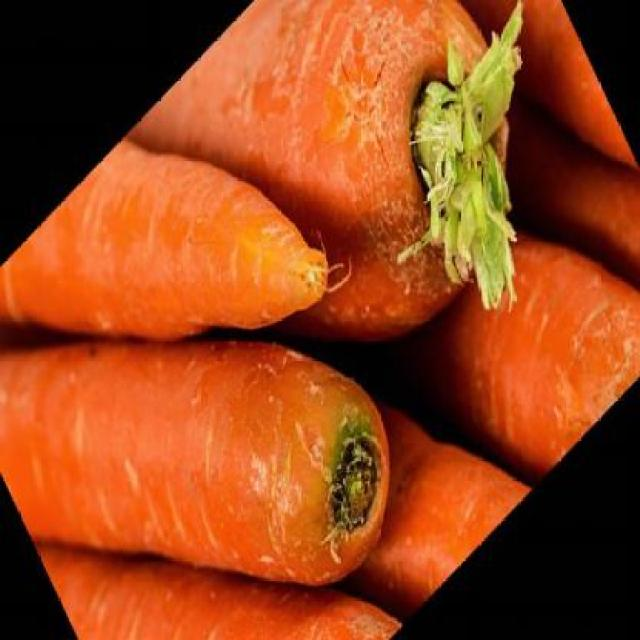carrot: (0, 66, 425, 639), (126, 0, 560, 477), (0, 34, 338, 553), (34, 307, 403, 638), (302, 0, 640, 337), (408, 139, 640, 524), (276, 292, 532, 639)
